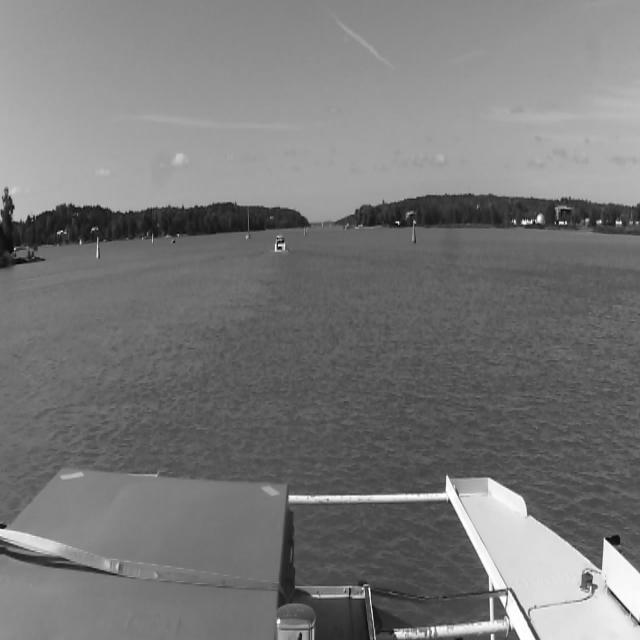buoy: (411, 225, 416, 244), (96, 236, 100, 258), (304, 225, 306, 236), (152, 234, 154, 242)
ship: (274, 234, 286, 252), (244, 205, 250, 240)
